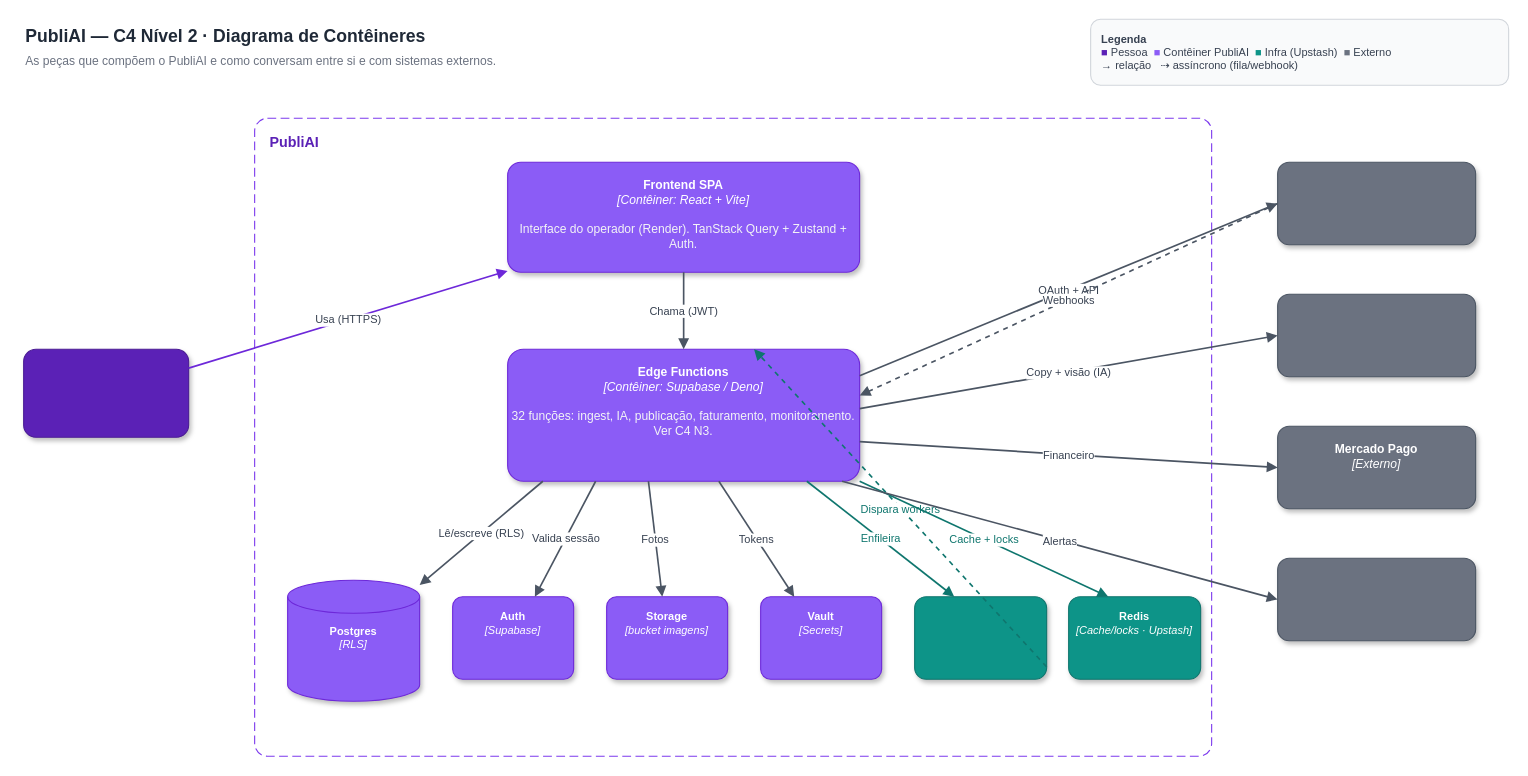
Some shapes in this 1528 by 776 pixel diagram are drawn without their labels. Here are the shapes that lost their labels. From the top down, the centre of each, then its label:
the point at 1377,204: Mercado Livre [Externo]
the point at 1377,336: OpenRouter [Externo · IA]
the point at 106,394: Operador (Diego) [Pessoa]
the point at 1377,600: Telegram [Externo]
the point at 981,639: QStash [Fila · Upstash]
